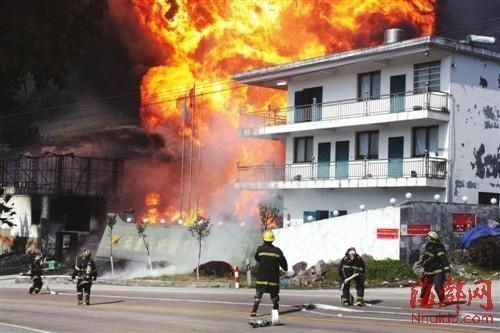fire: (138, 189, 207, 224)
